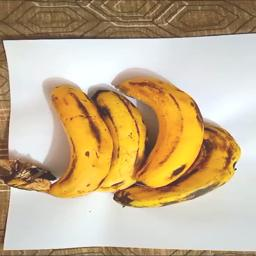Banana Unripe: (116, 70, 209, 191), (34, 82, 108, 202), (87, 80, 147, 198), (117, 149, 232, 210)
